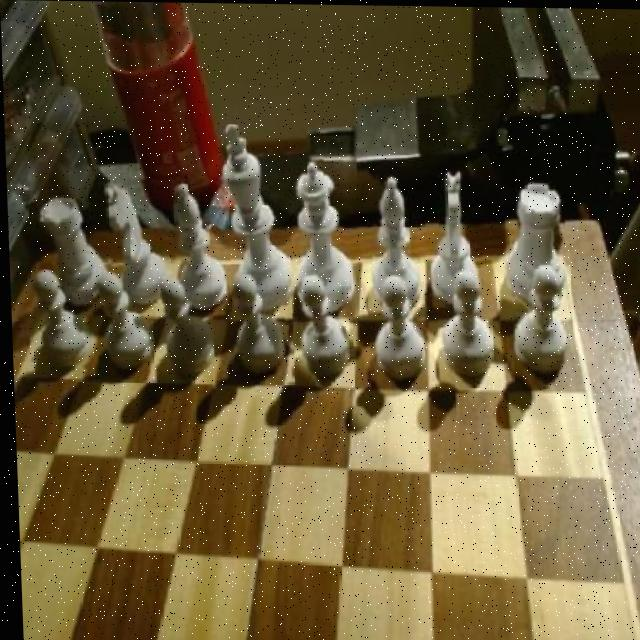black-rook: (170, 176, 232, 311), (366, 172, 421, 306)
white-bishop: (219, 118, 291, 315)
white-king: (421, 163, 484, 307), (104, 178, 171, 303)
white-knight: (509, 261, 570, 386), (26, 266, 93, 369), (289, 268, 350, 380), (92, 265, 156, 369), (223, 270, 285, 375), (371, 269, 426, 382), (436, 276, 494, 381), (154, 276, 211, 370)
white-pawn: (286, 154, 360, 322)
white-queen: (37, 197, 110, 309), (500, 178, 565, 301)
